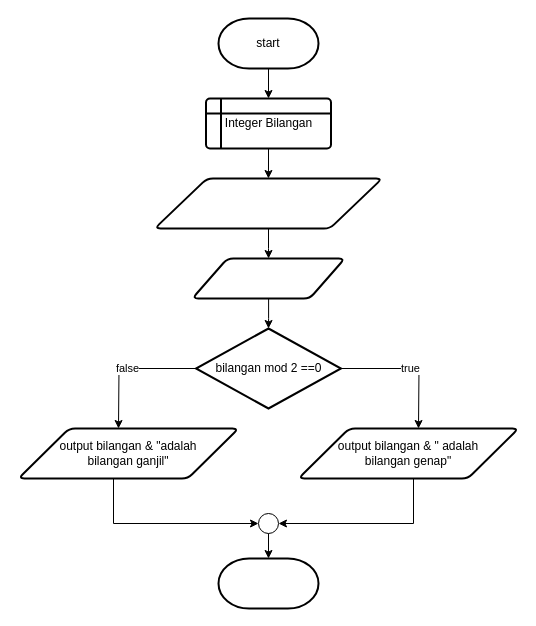
Image size: 536x626. Some labels were removed from this diagram. Each missing label, with the box of its shape:
end: (217, 557, 319, 609)
Input bilangan: (191, 257, 345, 299)
output "masukkan bilangan yang akan diuji": (153, 177, 383, 229)
